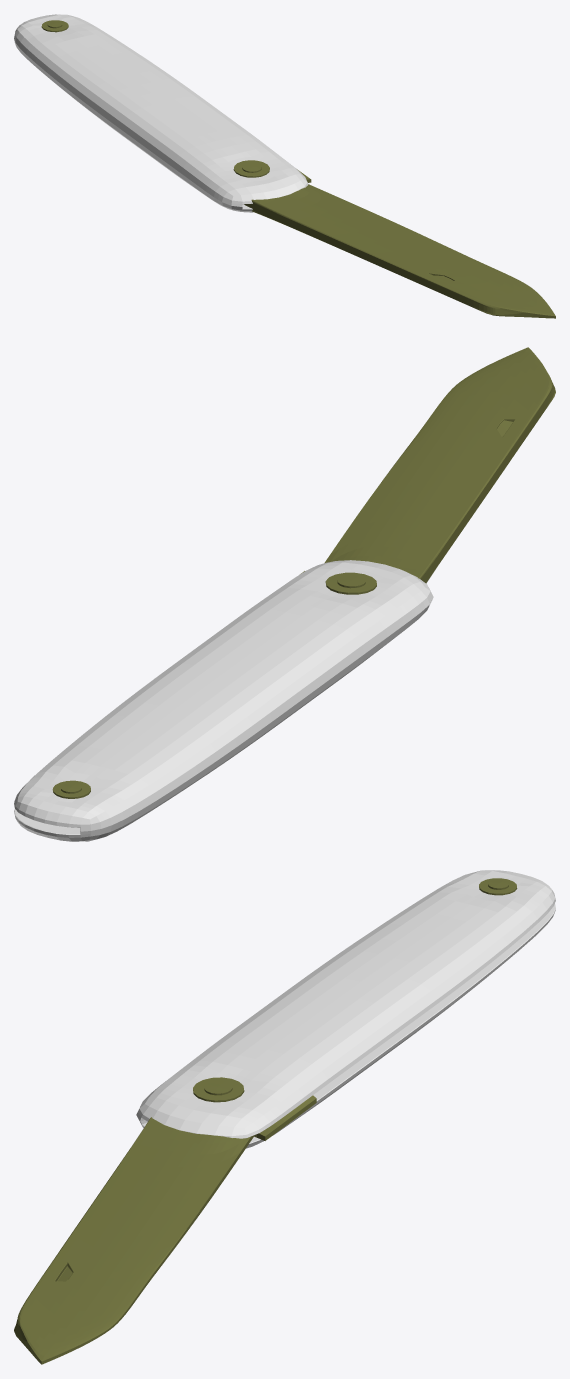
The model's file is knife.fbx.
3 views of the same model, one above another, from view 1: azimuth 30°, elevation 25°; view 2: azimuth 150°, elevation 25°; view 3: azimuth 330°, elevation 25° (orthographic). The views are drawn at different scales.
Parts seen in each view (by area): view 1: knife, knife2; view 2: knife, knife2; view 3: knife, knife2.
Boxes of the visible parts, <box> form: knife: <box>14,14,308,212</box>; knife2: <box>244,169,555,318</box>; knife: <box>14,560,433,841</box>; knife2: <box>301,347,555,583</box>; knife: <box>136,870,555,1148</box>; knife2: <box>14,1095,316,1364</box>.
Bounding box in the file's own units: 31.73 × 6.85 × 163.
